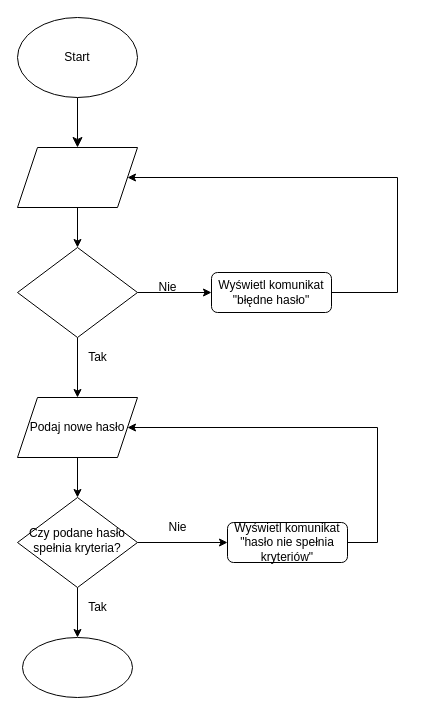
Image size: 423x715. Some labels were removed from this diagram. The shapes that lost their labels are listed below. From the top down, each one's centre as x and y in pixels, then its label:
At point 77,177: "Podaj stare hasło".
At point 77,292: "Czy podane hasło jest porawne?".
At point 77,667: "Koniec".
